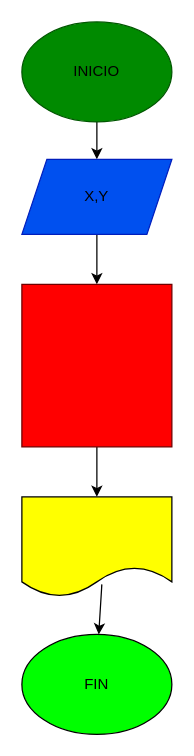
Some shapes in this 194 by 756 pixel diagram are drawn without their labels. Each missing label, with the centre of its shape:
"S,R,M,D,DE,MO,P" belongs at pixel 96 546.
"S:X+Y R:X-Y M:X*Y D:X/Y DE:X//Y MO:X%Y P:X**Y" belongs at pixel 96 365.
